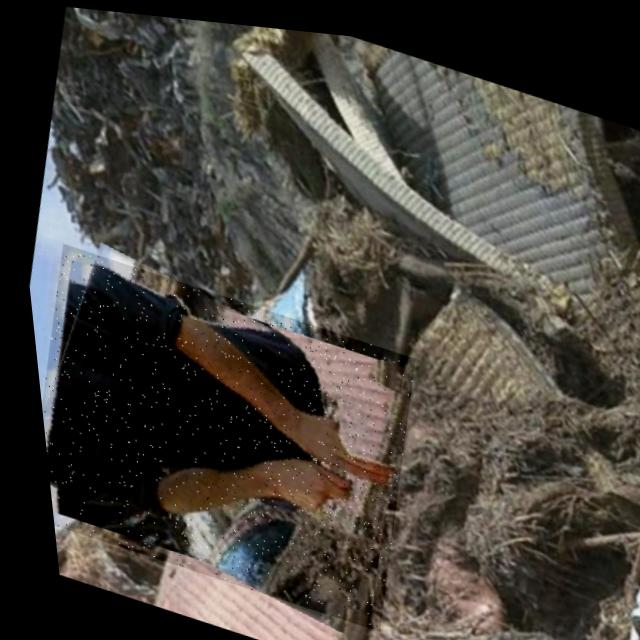Person in Rubble: (19, 238, 431, 628)
